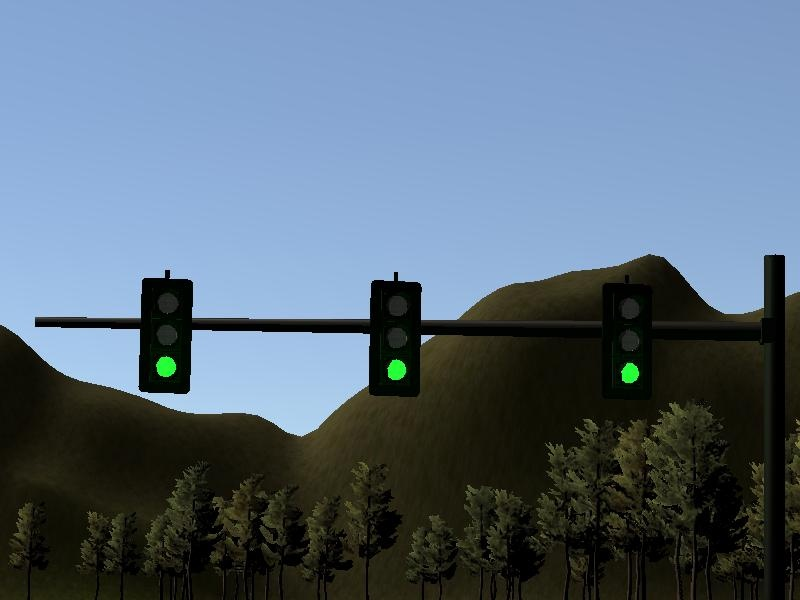green: (351, 270, 431, 405), (131, 262, 206, 397), (593, 271, 656, 405)
